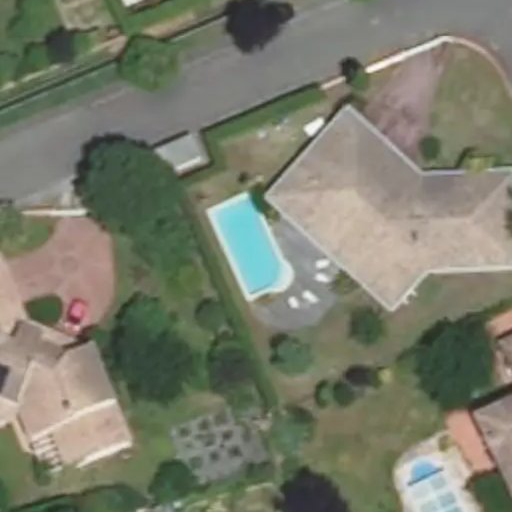pool: (217, 208, 299, 279)
